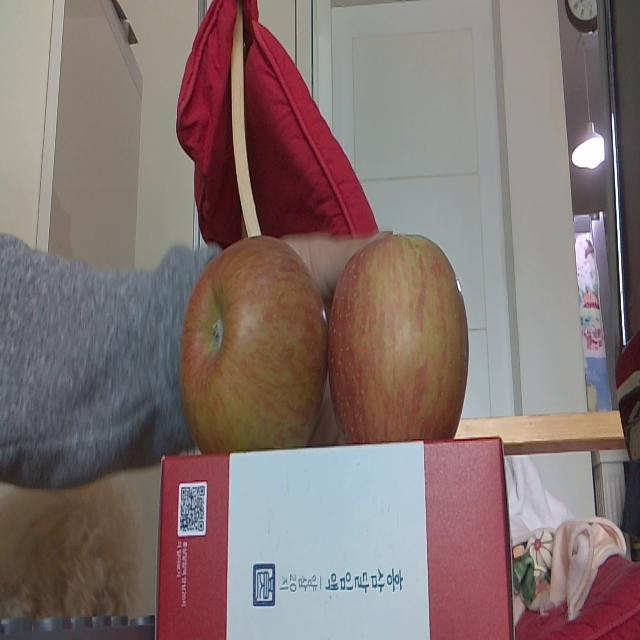apple: (182, 233, 326, 451), (329, 230, 474, 444)
